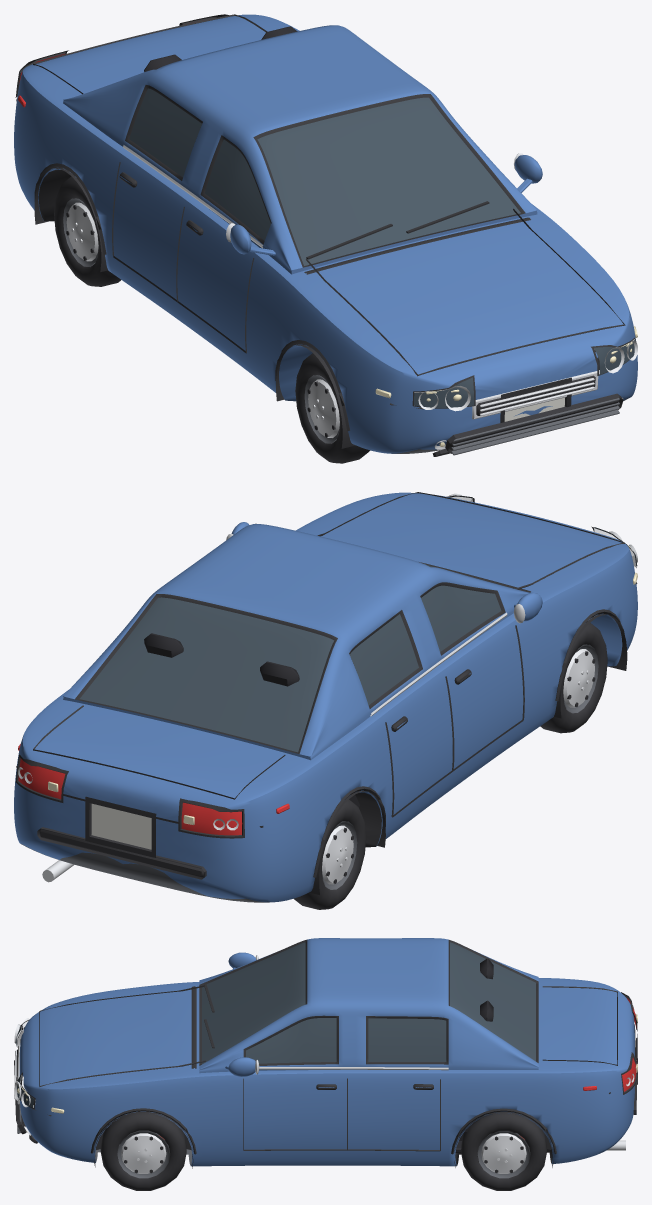
Rendered from CarV3_Compact.fbx.
3 renders of one model, top to bottom at view 1: azimuth 30°, elevation 25°; view 2: azimuth 150°, elevation 25°; view 3: azimuth 270°, elevation 25°, orthographic. The views are drawn at different scales.
Parts seen in each view (by area): view 1: CarV3_Compact; view 2: CarV3_Compact; view 3: CarV3_Compact.
Boxes of the visible parts, x1,y1,x2,y2 form: CarV3_Compact: [14, 14, 637, 463]; CarV3_Compact: [14, 492, 637, 909]; CarV3_Compact: [14, 938, 637, 1190].
Bounding box in the file's own units: 1.88 × 1.42 × 4.5.
